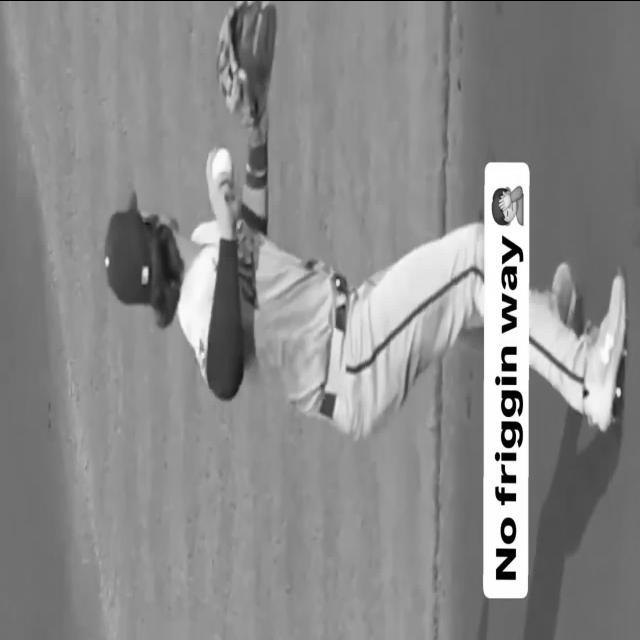baseball: (211, 147, 232, 178)
baseball_glove: (216, 0, 276, 129)
shoe: (584, 273, 626, 431), (551, 260, 578, 324)
